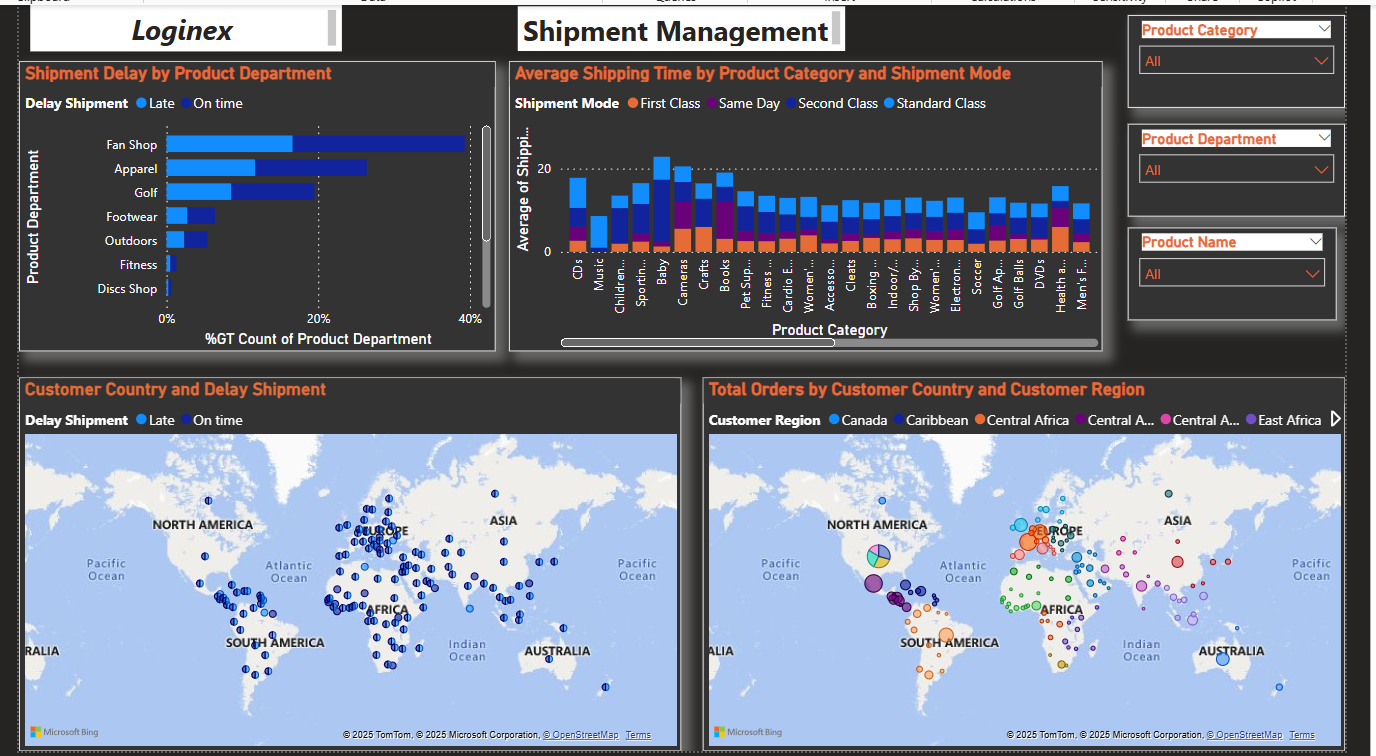

The dashboard page shown, as its layout file describes it:
{"tool":"powerbi","page":{"name":"Shipment Management","canvas":[1280,720],"ordinal":2},"visuals":[{"type":"barChart","title":"Shipment Delay by Product Department","fields":{"Series":["orders_data.Delay Shipment"],"Y":["CountNonNull(orders_data.Product Department)"],"Category":["orders_data.Product Department"]},"box":[0,54.3,459.7,279.9],"z":0},{"type":"lineStackedColumnComboChart","title":"Average Shipping Time by Product Category and Shipment Mode","fields":{"Category":["orders_data.Product Category"],"Series":["orders_data.Shipment Mode"],"Y":["Avg(orders_data.Shipping Time)"]},"box":[472.9,54.3,573.1,279.9],"z":1000},{"type":"map","title":"Total Orders by Customer Country and Customer Region","fields":{"Category":["orders_data.Customer Country"],"Series":["orders_data.Customer Region"],"Size":["Sum(orders_data.Order Quantity)"]},"box":[659.9,359.5,620.1,360.7],"z":2000},{"type":"map","fields":{"Series":["orders_data.Delay Shipment"],"Category":["orders_data.Customer Country"]},"box":[0,359.5,639.4,360.7],"z":3000},{"type":"slicer","fields":{"Values":["inventory_data.Product Category"]},"box":[1070.1,9.7,209.9,89.3],"z":4000},{"type":"slicer","fields":{"Values":["inventory_data.Product Department"]},"box":[1070.1,114.6,209.9,89.3],"z":5000},{"type":"slicer","fields":{"Values":["inventory_data.Product Name"]},"box":[1070.1,214.7,201.5,89.3],"z":6000},{"type":"textbox","box":[10.9,0,300.4,44.6],"z":7000},{"type":"textbox","box":[481.4,1.2,316.1,43.4],"z":8000}]}

Visuals, with their boxes in screenshot pixels (x1, y1, x2, y2):
"Shipment Delay by Product Department" barChart: locate(14, 56, 490, 346)
"Average Shipping Time by Product Category and Shipment Mode" lineStackedColumnComboChart: locate(504, 56, 1098, 346)
"Total Orders by Customer Country and Customer Region" map: locate(698, 372, 1340, 746)
map - orders_data.Delay Shipment x orders_data.Customer Country: locate(14, 372, 676, 746)
slicer - inventory_data.Product Category: locate(1123, 10, 1340, 103)
slicer - inventory_data.Product Department: locate(1123, 119, 1340, 211)
slicer - inventory_data.Product Name: locate(1123, 222, 1331, 315)
textbox: locate(26, 0, 337, 46)
textbox: locate(513, 1, 840, 46)
